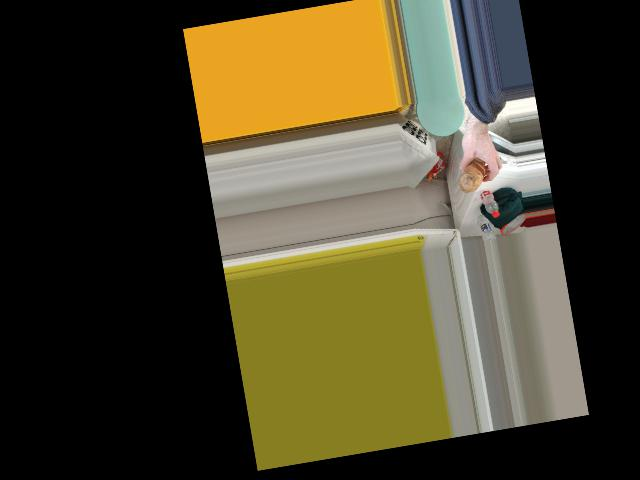sweet_potato: (456, 156, 488, 194)
